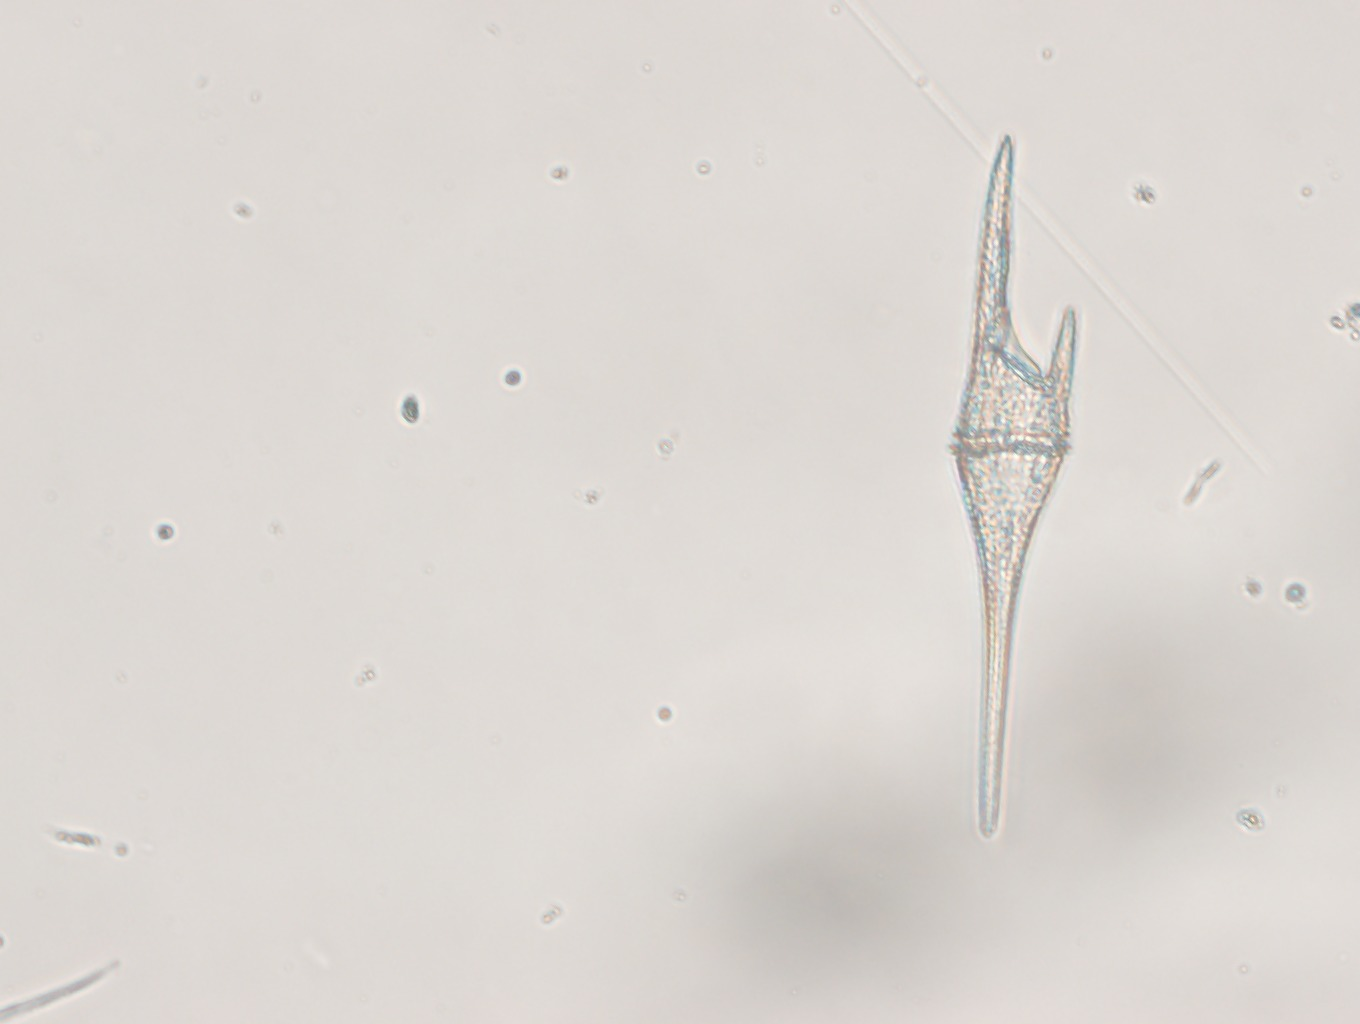ceratium furca: (955, 133, 1076, 842)
